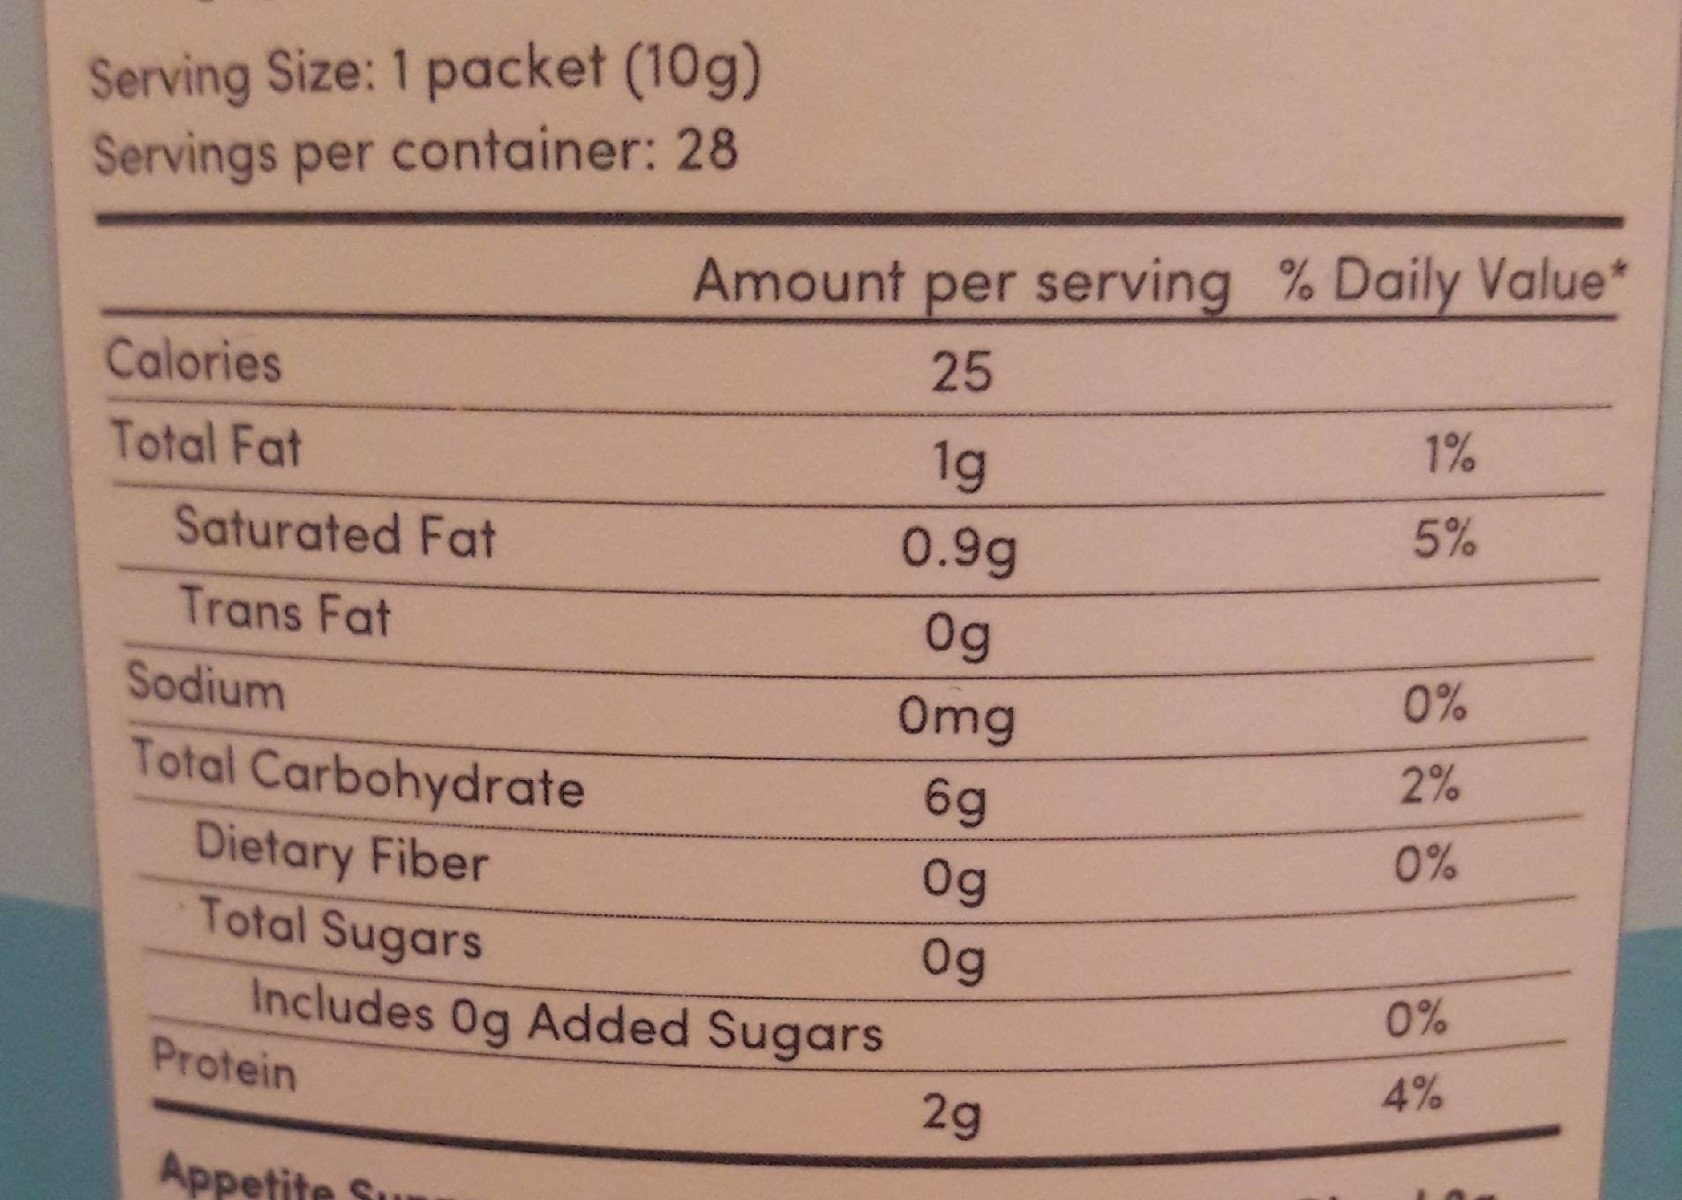column: (109, 251, 1236, 1142), (1266, 247, 1627, 1129)
table: (84, 203, 1638, 1151)
